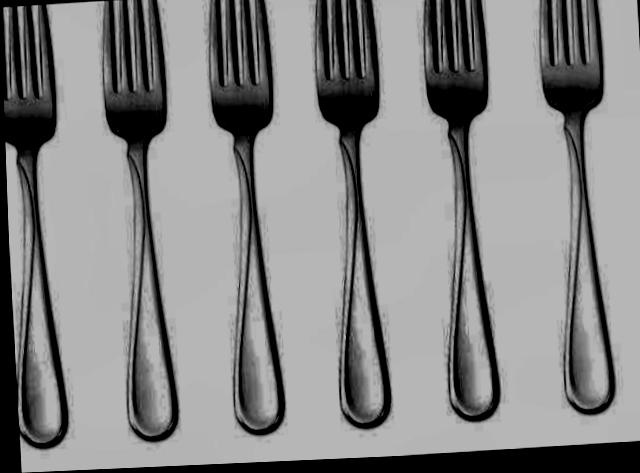Fork: (103, 0, 177, 438), (315, 0, 390, 426), (209, 0, 283, 431), (424, 0, 498, 419), (540, 0, 613, 412), (0, 4, 67, 445)
